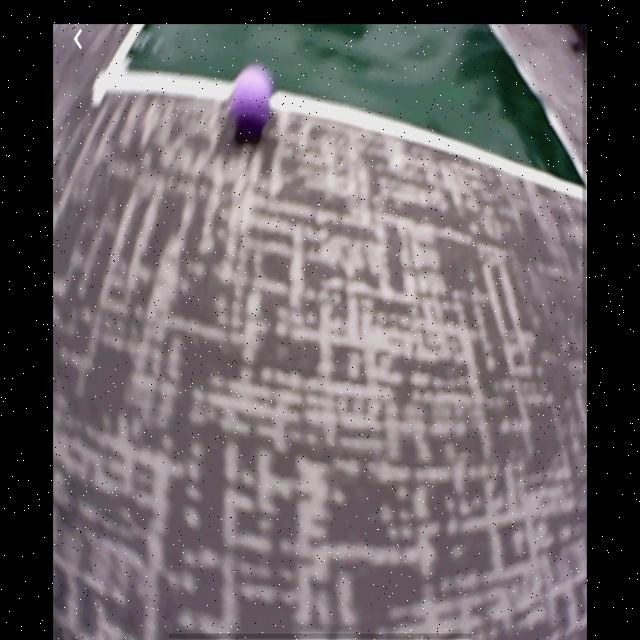ball: (227, 64, 275, 147)
